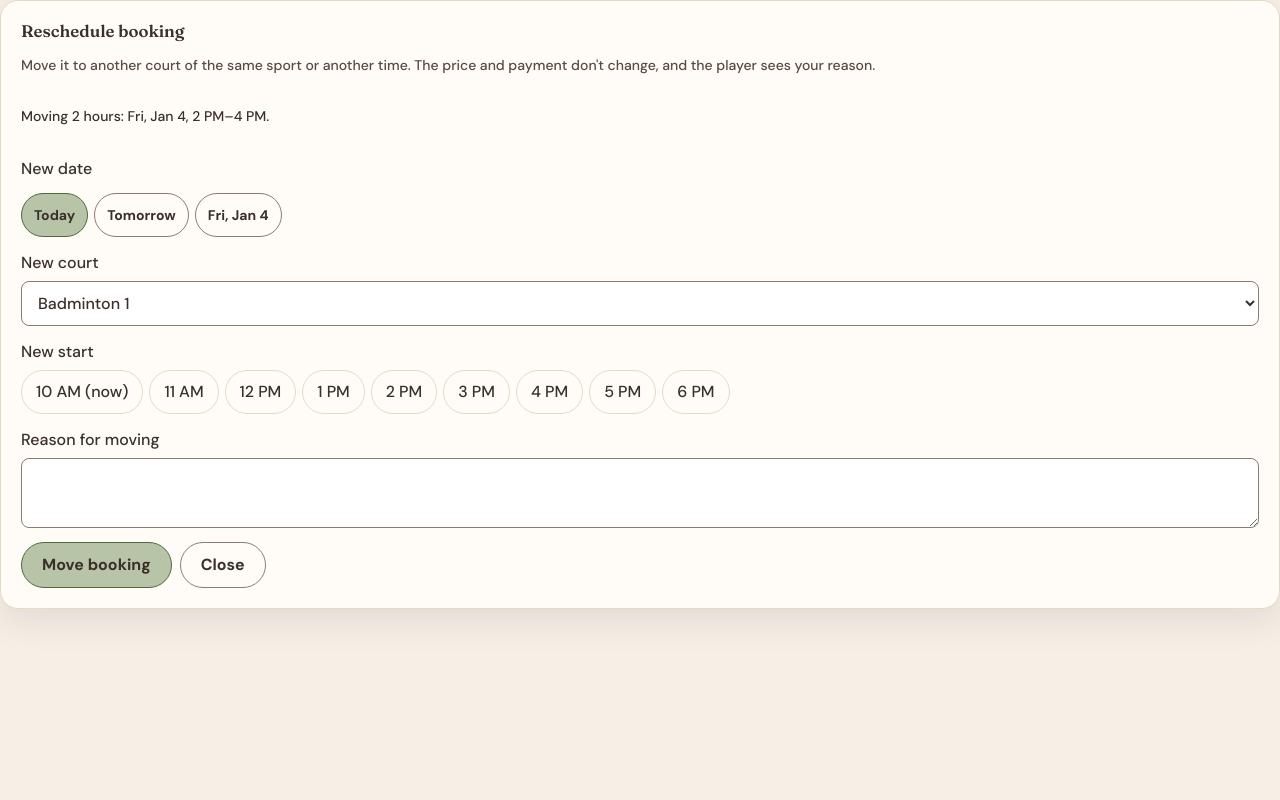
Scenario: RescheduleForm › needs a court and start, and a reason, before sending
The image size is (1280, 800).
Expected: the element "New start" is shown, top-left (21, 341), bottom-right (730, 414)
Click the button "Move booking": (96, 565) top-left (21, 542), bottom-right (172, 588)
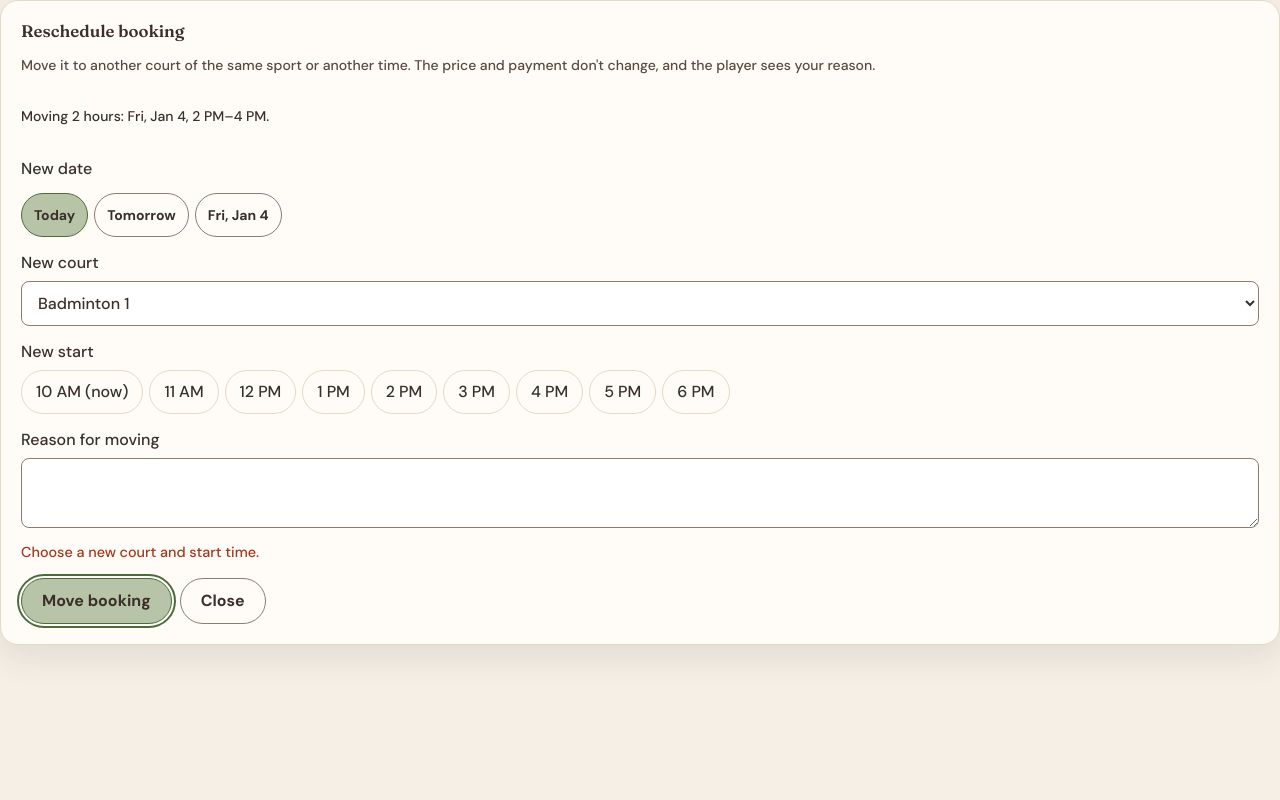
Expected: the message reads "Choose a new court and start time.", top-left (21, 543), bottom-right (259, 561)
Click the radio button labelled "5 PM": (623, 392) top-left (589, 370), bottom-right (656, 414)
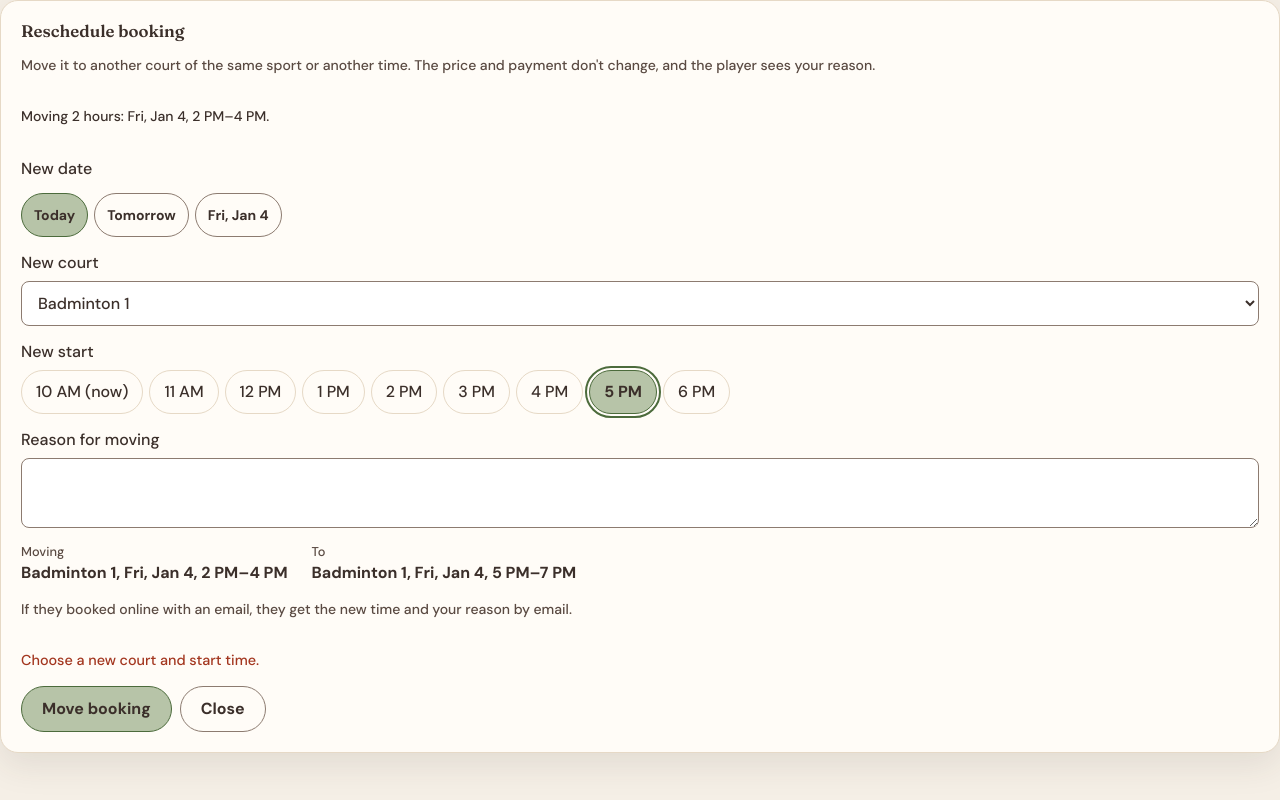
Click the button "Move booking": (96, 709) top-left (21, 686), bottom-right (172, 732)
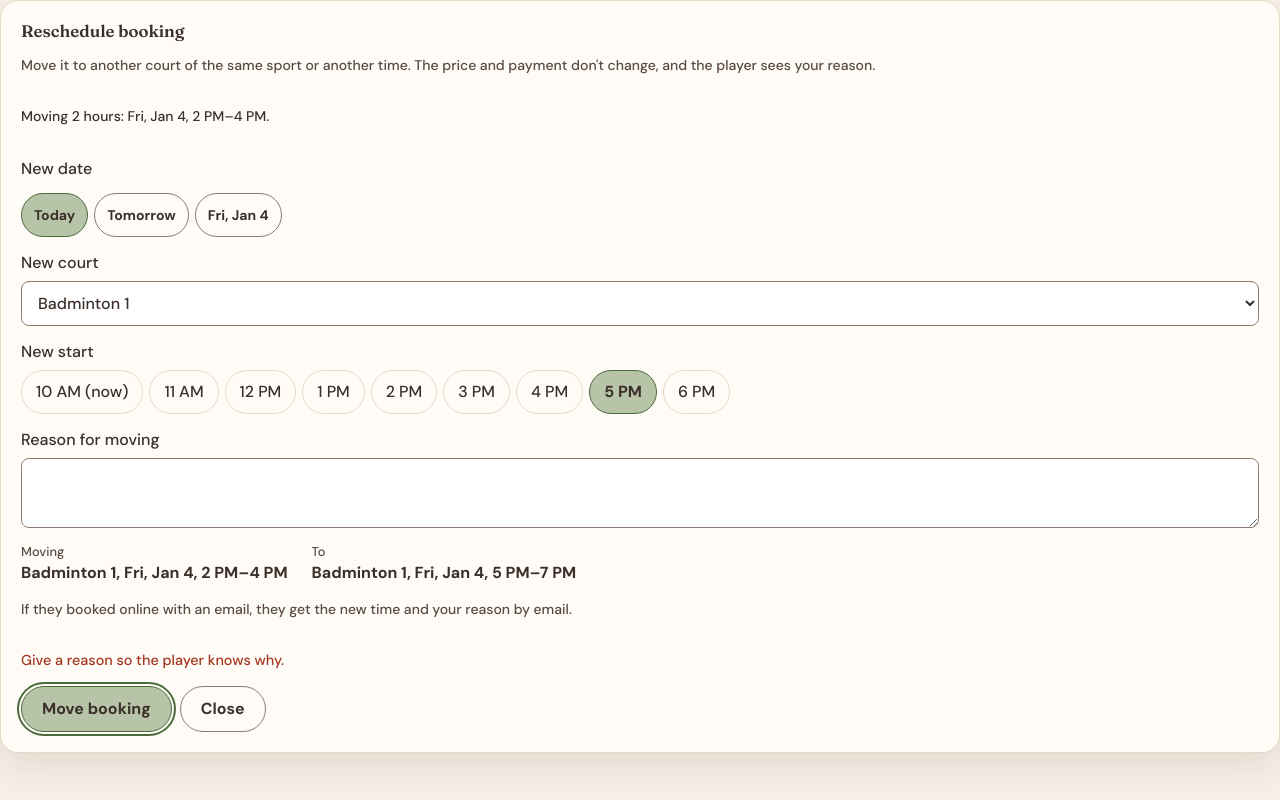
Expected: the message reads "Give a reason so the player knows why.", top-left (21, 651), bottom-right (284, 669)
